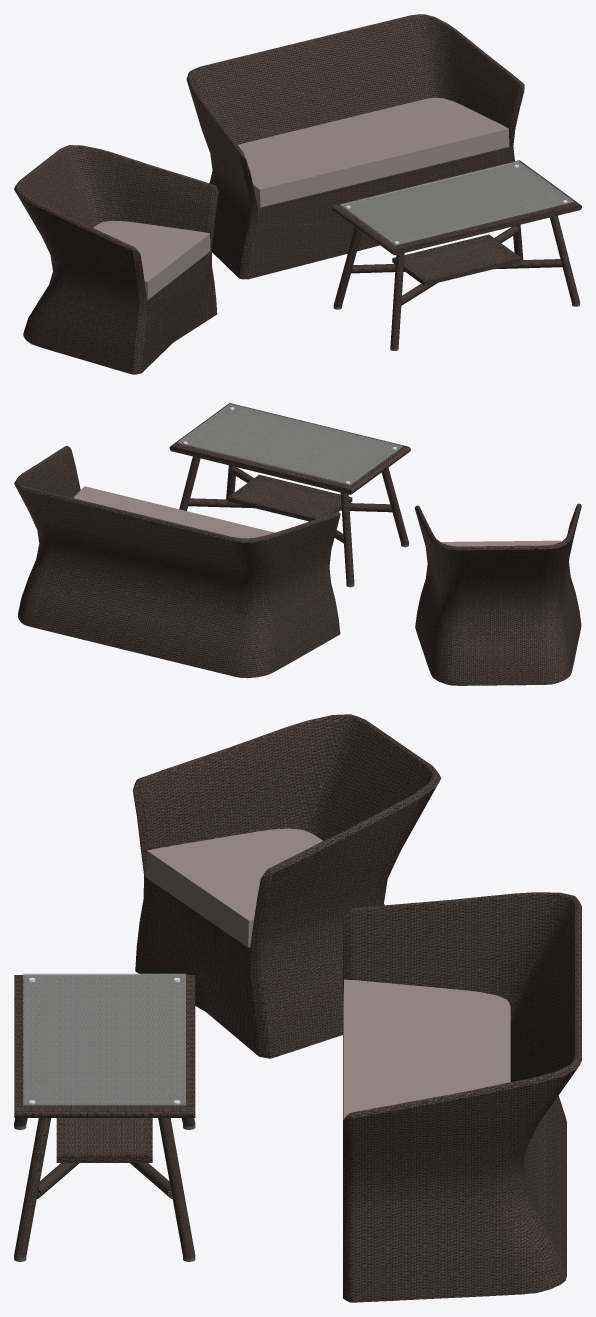
The model's file is niwazaset2_nocolor.fbx.
3 renders of one model, top to bottom at view 1: azimuth 30°, elevation 25°; view 2: azimuth 150°, elevation 25°; view 3: azimuth 270°, elevation 25°, orthographic. The views are drawn at different scales.
Visible parts, largest first — view 1: 庭座ダブルソファ.001, 庭座シングルソファ.001, niwaza-caffetable900; view 2: 庭座ダブルソファ.001, 庭座シングルソファ.001, niwaza-caffetable900; view 3: 庭座ダブルソファ.001, 庭座シングルソファ.001, niwaza-caffetable900.
Part boxes in pixels (x1,y1,x2,y2): 庭座ダブルソファ.001: [186, 14, 524, 279]; 庭座シングルソファ.001: [14, 145, 218, 374]; niwaza-caffetable900: [332, 160, 581, 350]; 庭座ダブルソファ.001: [14, 446, 340, 678]; 庭座シングルソファ.001: [414, 503, 581, 685]; niwaza-caffetable900: [169, 403, 410, 587]; 庭座ダブルソファ.001: [343, 892, 581, 1302]; 庭座シングルソファ.001: [133, 714, 441, 1058]; niwaza-caffetable900: [14, 973, 195, 1261].
Size of the model in its own units: 244 by 67 by 157.
Materials: 10 (4 with a texture image).
